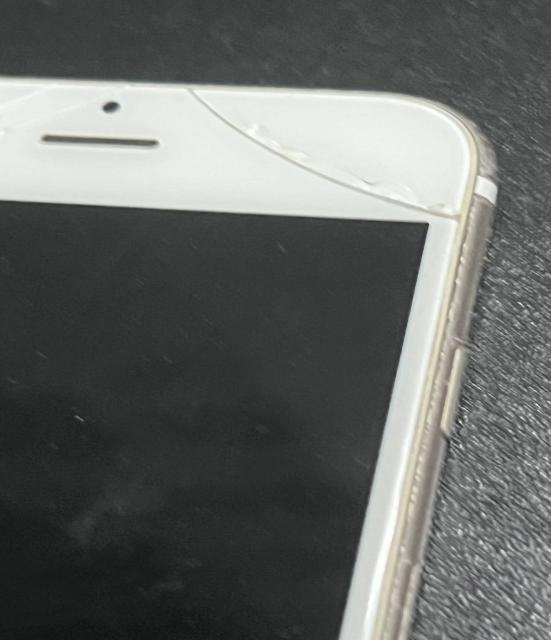physical_damage: (344, 161, 466, 236), (171, 80, 277, 152), (267, 141, 351, 198), (0, 55, 59, 110)
